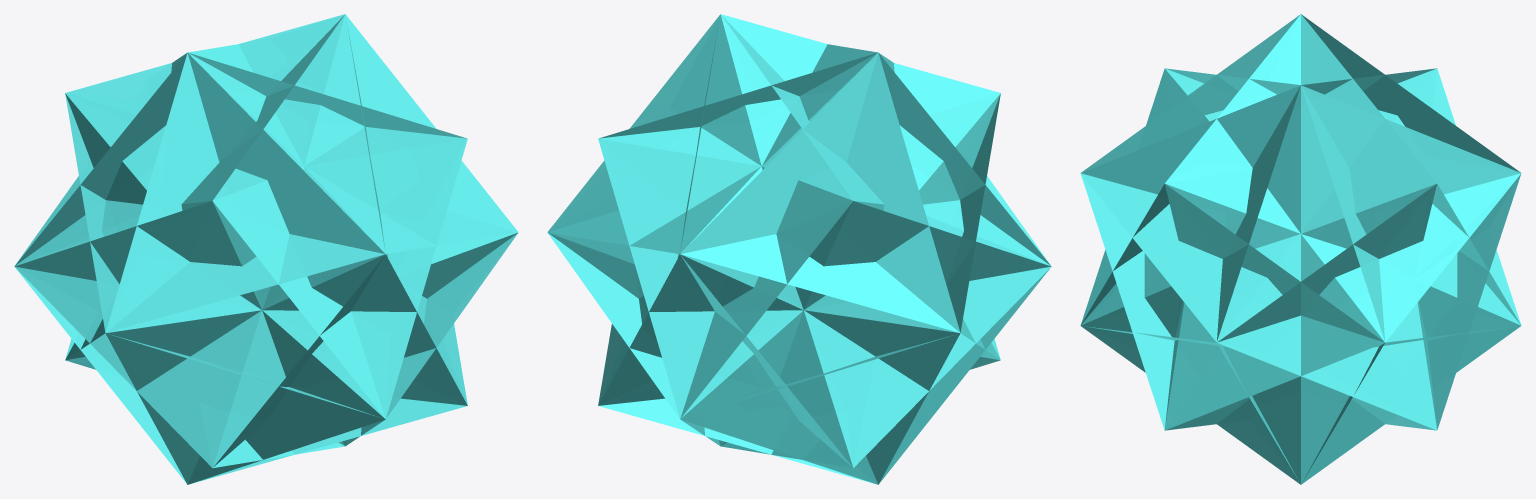
The model's file is GreatDodecicosacron.obj.
The picture shows the model from 3 angles, left to right: view 1: azimuth 30°, elevation 25°; view 2: azimuth 150°, elevation 25°; view 3: azimuth 270°, elevation 25°; orthographic projection. The views are drawn at different scales.
Bounding box in the file's own units: 3.62 × 3.62 × 3.62.
